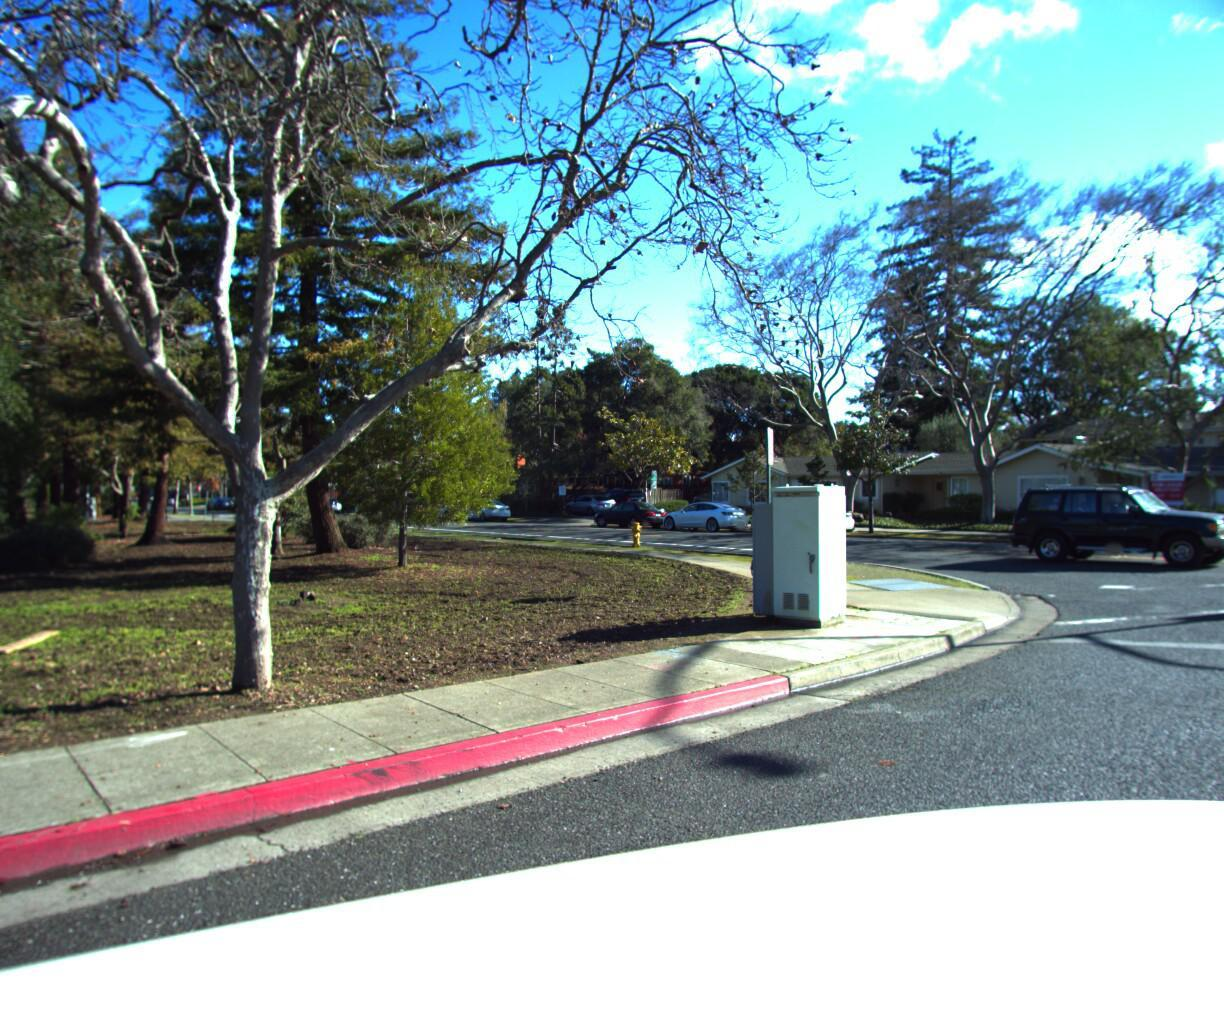car: (1002, 477, 1224, 571), (746, 494, 865, 536), (660, 495, 757, 531), (589, 495, 676, 527), (592, 486, 651, 511), (457, 495, 517, 519), (563, 490, 622, 513)
